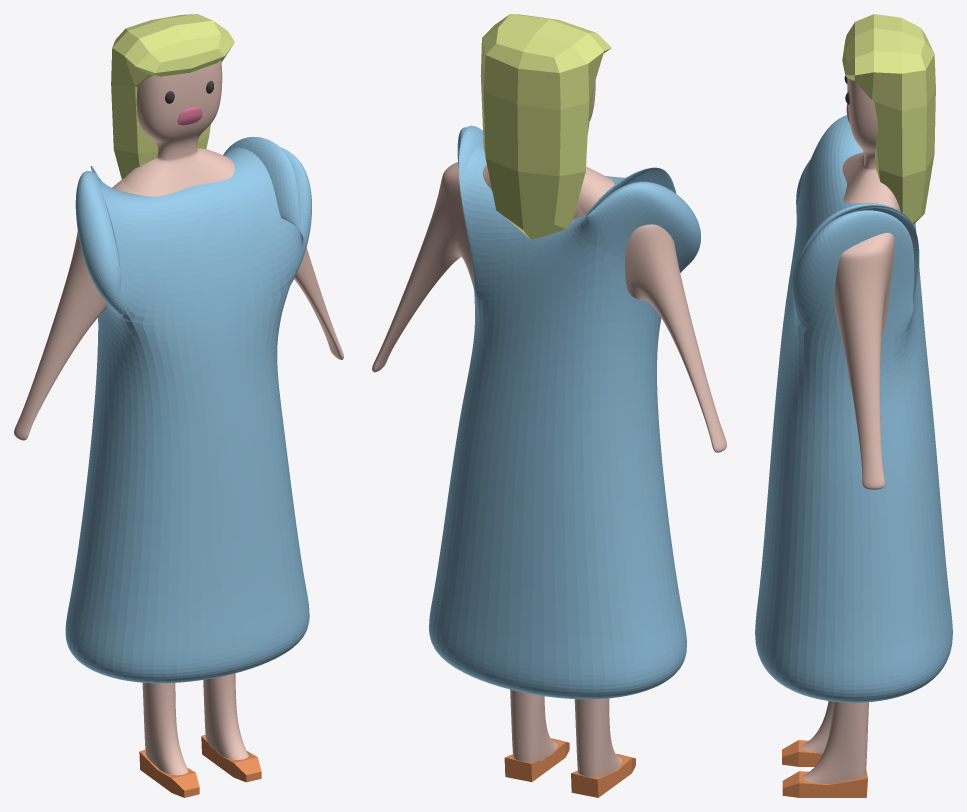
Rendered from Player.fbx.
3 renders of one model, left to right at view 1: azimuth 30°, elevation 25°; view 2: azimuth 150°, elevation 25°; view 3: azimuth 270°, elevation 25°, orthographic. The views are drawn at different scales.
Visible parts, largest first — view 1: dress, Cube, hair, shoes, shoes2; view 2: dress, hair, Cube, shoes, shoes2; view 3: dress, Cube, hair, shoes2, shoes.
Part boxes in pixels (x1,y1,x2,y2): dress: (65,137,311,683); Cube: (14,60,343,775); hair: (111,14,234,179); shoes: (139,749,199,797); shoes2: (201,734,261,782); dress: (429,125,700,699); hair: (480,14,611,239); Cube: (372,80,726,777); shoes: (571,754,635,797); shoes2: (504,738,569,781); dress: (755,115,952,702); Cube: (801,78,900,784); hair: (842,14,935,224); shoes2: (782,771,867,797); shoes: (782,740,822,766).
Size of the model in its own units: 82.18 by 175 by 41.88.
